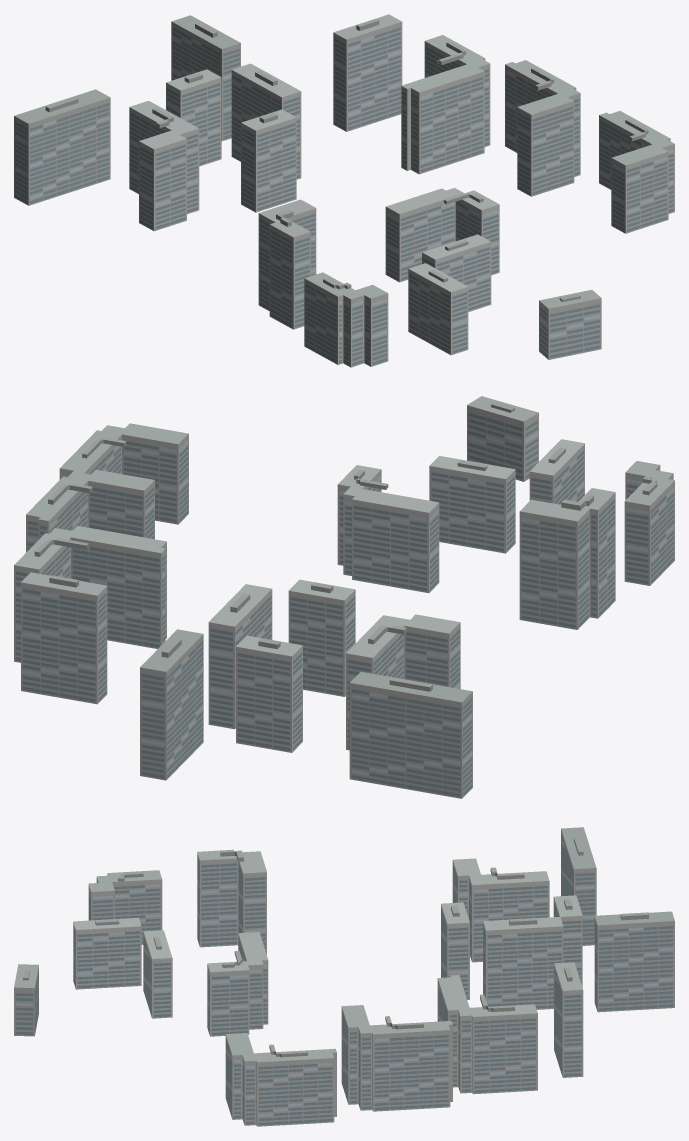
Rendered from apt-a13610007.glb.
The picture shows the model from 3 angles, top to bottom: view 1: azimuth 30°, elevation 25°; view 2: azimuth 150°, elevation 25°; view 3: azimuth 270°, elevation 25°; orthographic projection. The views are drawn at different scales.
Parts seen in each view (by area): view 1: apt-a13610007; view 2: apt-a13610007; view 3: apt-a13610007.
Part boxes in pixels (bbox=[...]): apt-a13610007: bbox=[14, 14, 674, 367]; apt-a13610007: bbox=[14, 396, 674, 798]; apt-a13610007: bbox=[14, 827, 674, 1126].
Bounding box in the file's own units: 283 × 54 × 355.
